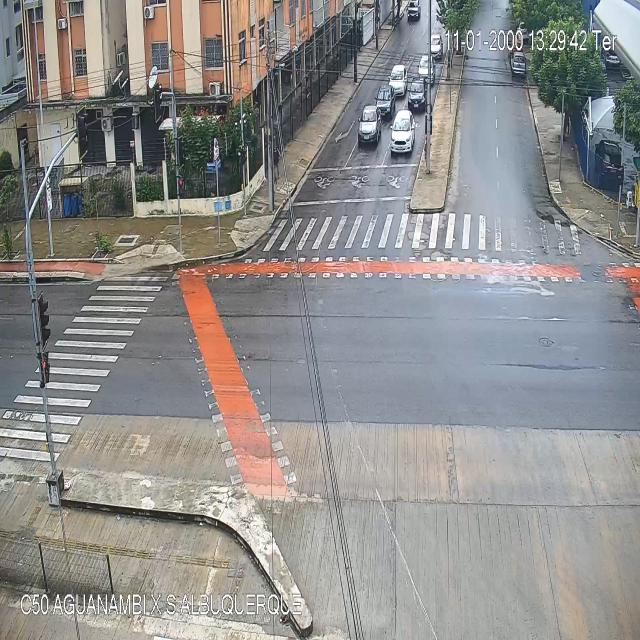Car: (391, 113, 412, 154), (359, 106, 381, 145), (376, 85, 395, 114), (410, 80, 426, 113), (418, 57, 435, 84), (391, 66, 407, 94), (512, 52, 526, 75), (428, 36, 441, 58), (408, 1, 420, 22)
